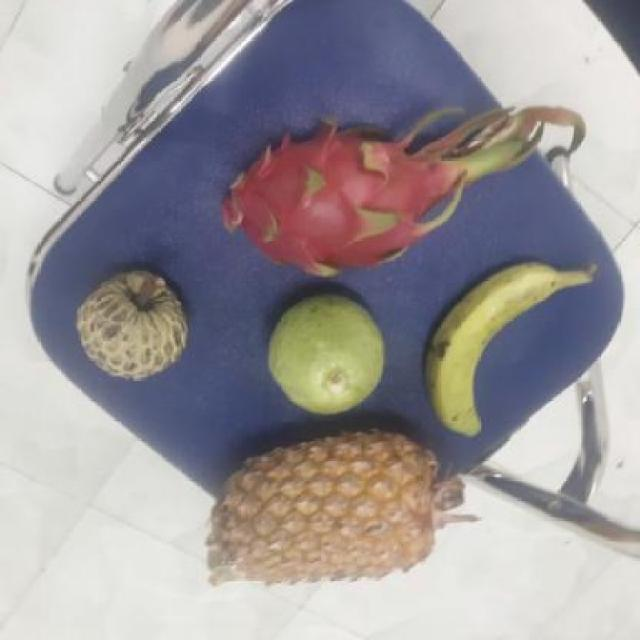banana: (416, 262, 566, 430)
dragon fruit: (212, 119, 454, 279)
guava: (262, 290, 387, 415)
pineapple: (204, 424, 442, 581)
sugar apple: (69, 267, 186, 379)
